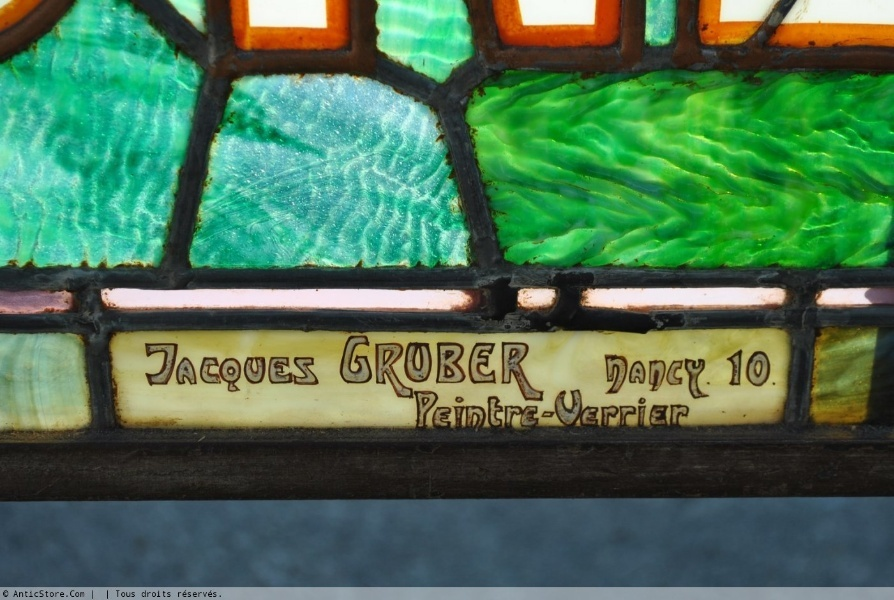text: (353, 334, 368, 403), (369, 334, 384, 403), (385, 334, 400, 403), (401, 334, 416, 403), (417, 334, 432, 403), (433, 334, 448, 403), (449, 334, 464, 403), (465, 334, 480, 403), (481, 334, 496, 403), (497, 334, 512, 403), (513, 334, 528, 403), (529, 334, 544, 403), (305, 342, 321, 393), (145, 342, 160, 393), (161, 342, 176, 393), (177, 342, 192, 393), (193, 342, 208, 393), (209, 342, 224, 393), (225, 342, 240, 393), (241, 342, 256, 393), (257, 342, 272, 393), (273, 342, 288, 393), (289, 342, 304, 393), (342, 334, 352, 403), (609, 354, 624, 399), (625, 354, 640, 399), (641, 354, 656, 399), (657, 354, 672, 399), (673, 354, 688, 399), (689, 354, 704, 399), (417, 390, 432, 431), (433, 390, 448, 431), (449, 390, 464, 431), (465, 390, 480, 431), (481, 390, 496, 431), (497, 390, 512, 431), (513, 390, 528, 431), (529, 390, 544, 431), (545, 390, 560, 431), (561, 390, 576, 431), (577, 390, 592, 431), (593, 390, 608, 431), (609, 390, 624, 431), (625, 390, 640, 431), (641, 390, 656, 431), (657, 390, 672, 431), (673, 390, 688, 431), (737, 348, 752, 389), (753, 348, 768, 389), (725, 348, 736, 389), (705, 354, 710, 399), (769, 348, 773, 389), (545, 334, 547, 403), (605, 354, 608, 399), (414, 390, 416, 431), (689, 390, 691, 431), (143, 342, 144, 393)
